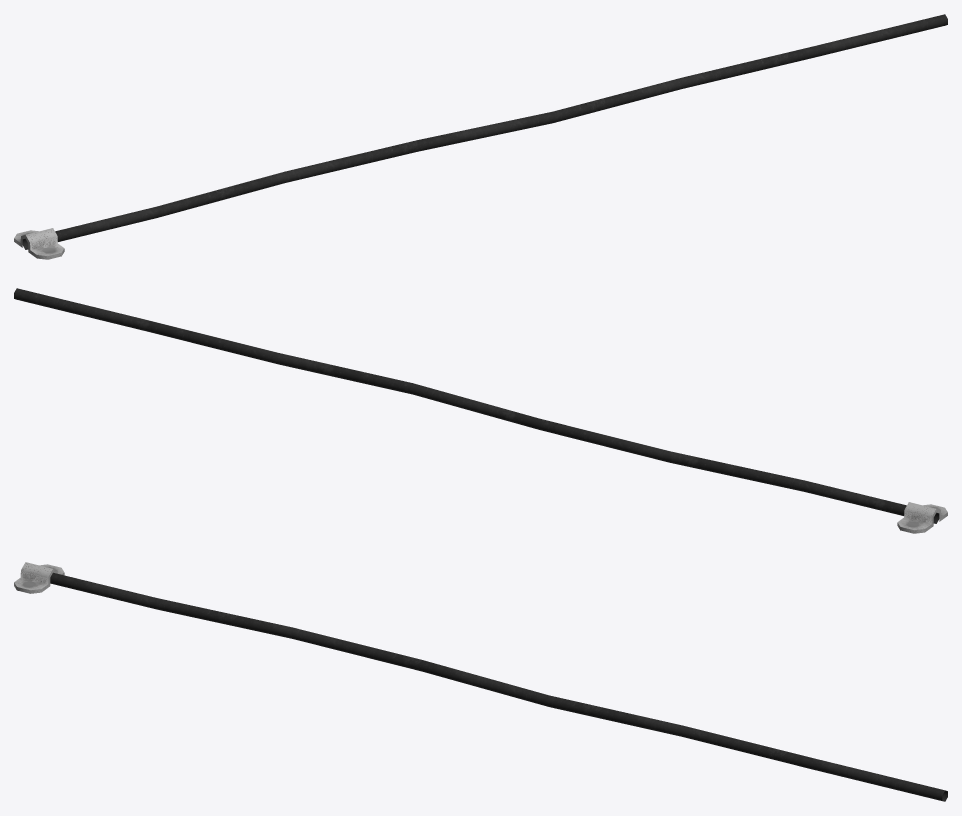
The model's file is Cable_50cm.fbx.
3 views of the same model, one above another, from view 1: azimuth 30°, elevation 25°; view 2: azimuth 150°, elevation 25°; view 3: azimuth 330°, elevation 25° (orthographic).
Parts seen in each view (by area): view 1: Cable_50cm; view 2: Cable_50cm; view 3: Cable_50cm.
Boxes of the visible parts, bbox=[...] form: Cable_50cm: bbox=[14, 14, 947, 259]; Cable_50cm: bbox=[14, 288, 947, 533]; Cable_50cm: bbox=[14, 562, 947, 801].
Size of the model in its own units: 50 by 0.8 by 2.92.
